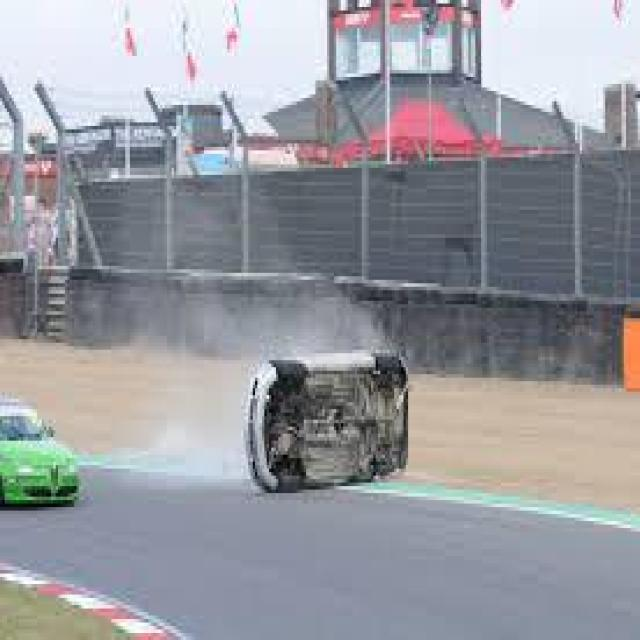severe: (241, 339, 415, 493)
